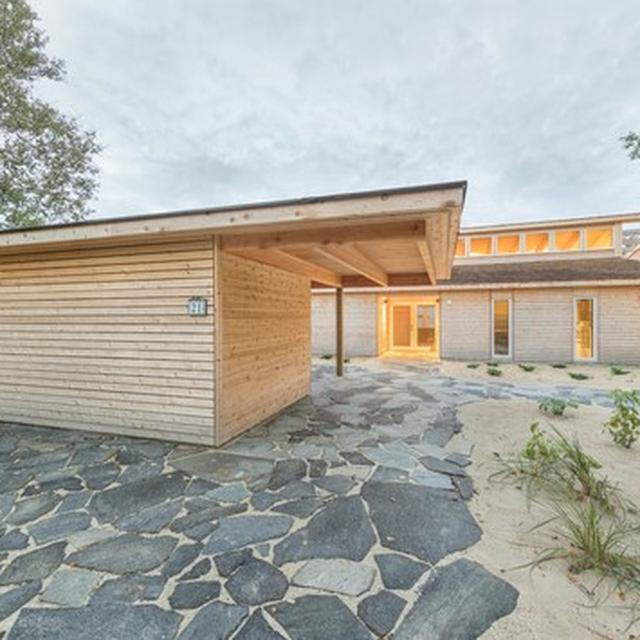building: (4, 176, 640, 450)
